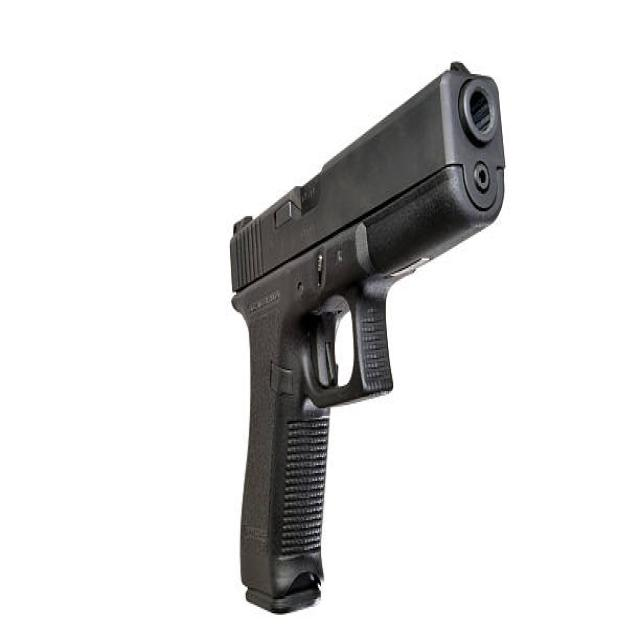pistol: (225, 58, 508, 619)
